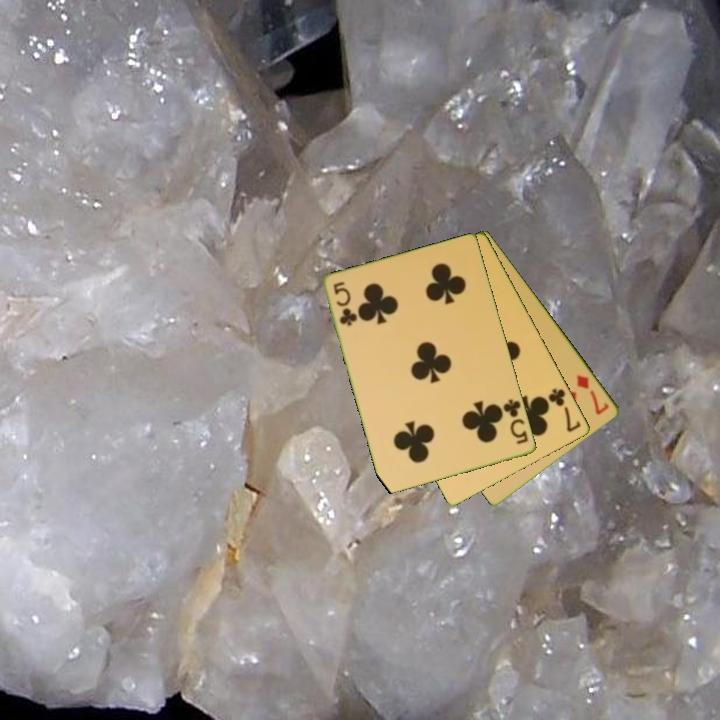5c: (498, 395, 531, 447), (330, 278, 360, 329)
7c: (545, 384, 584, 435)
7d: (573, 371, 612, 418)
